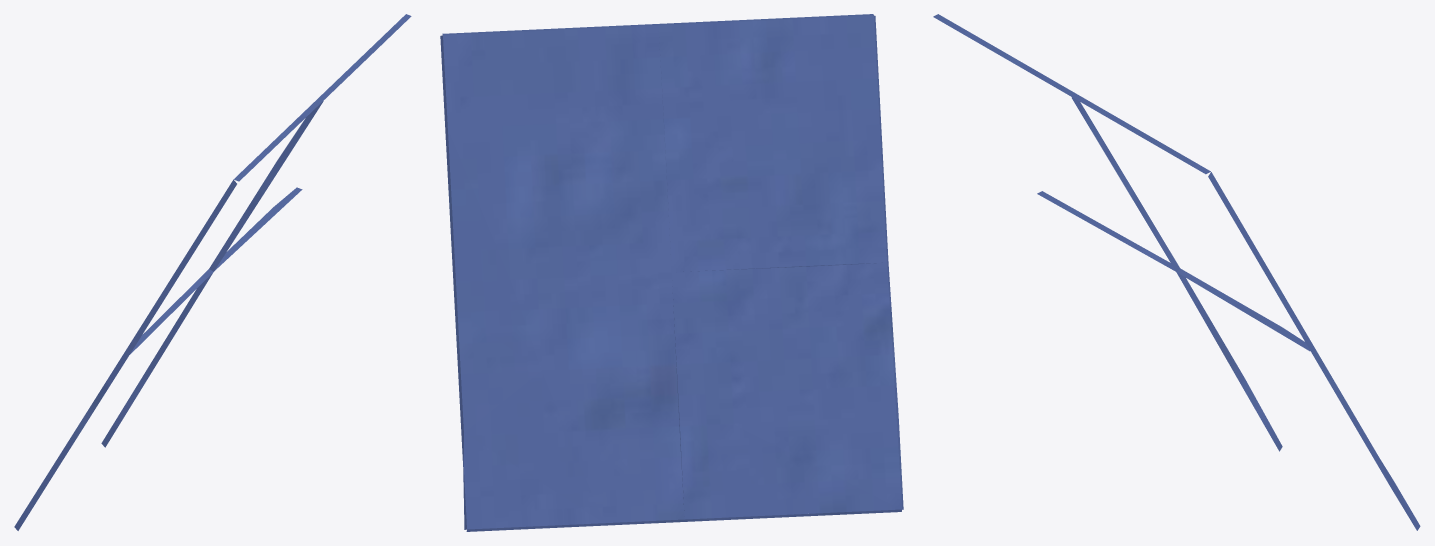
3 views of the same model, side by side, from view 1: azimuth 30°, elevation 25°; view 2: azimuth 150°, elevation 25°; view 3: azimuth 270°, elevation 25° (orthographic). The views are drawn at different scales.
Bounding box in the file's own units: 78779 × 69086 × 72276.
Materials: 1 (1 with a texture image).
